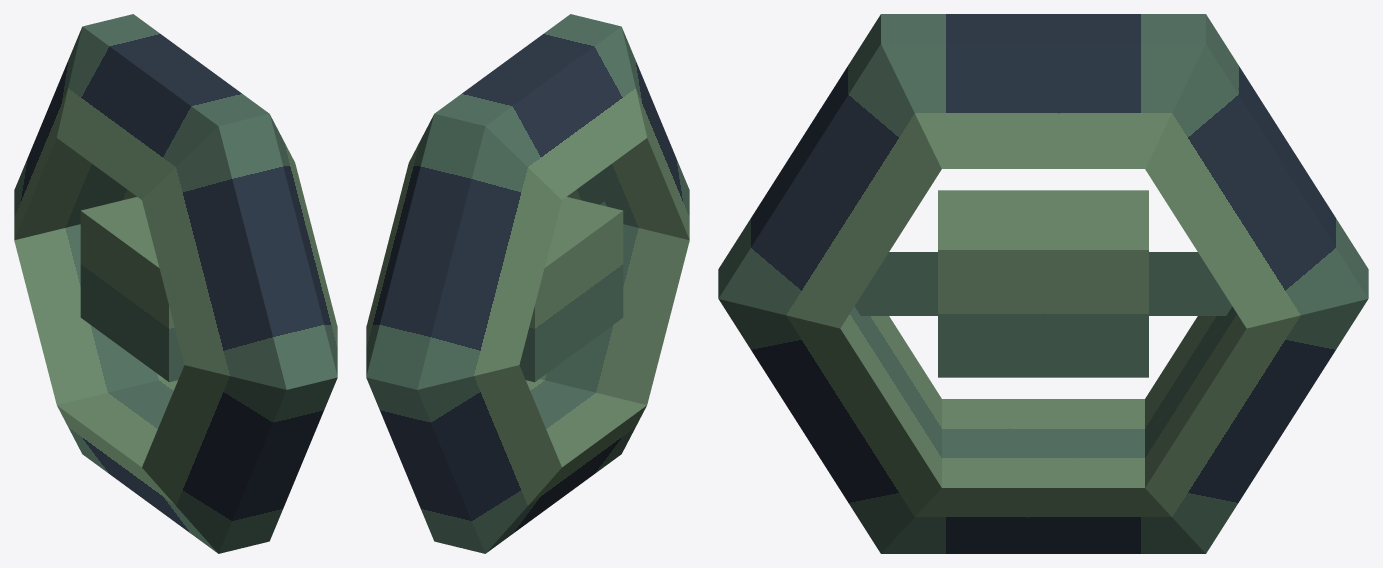
File: Mobile_Grenade.gltf
3 renders of one model, left to right at view 1: azimuth 30°, elevation 25°; view 2: azimuth 150°, elevation 25°; view 3: azimuth 270°, elevation 25°, orthographic. The views are drawn at different scales.
Parts seen in each view (by area): view 1: Wheel, cube; view 2: Wheel, cube; view 3: Wheel, cube (×2).
Part boxes in pixels (bbox=[...]): Wheel: bbox=[14, 14, 337, 553]; cube: bbox=[80, 197, 184, 382]; Wheel: bbox=[366, 14, 689, 553]; cube: bbox=[519, 197, 623, 382]; Wheel: bbox=[718, 14, 1368, 553]; cube (×2): bbox=[854, 190, 1232, 377].
Bounding box in the file's own units: 0.1875 × 0.5 × 0.5774.
Materials: 1 (1 with a texture image).
